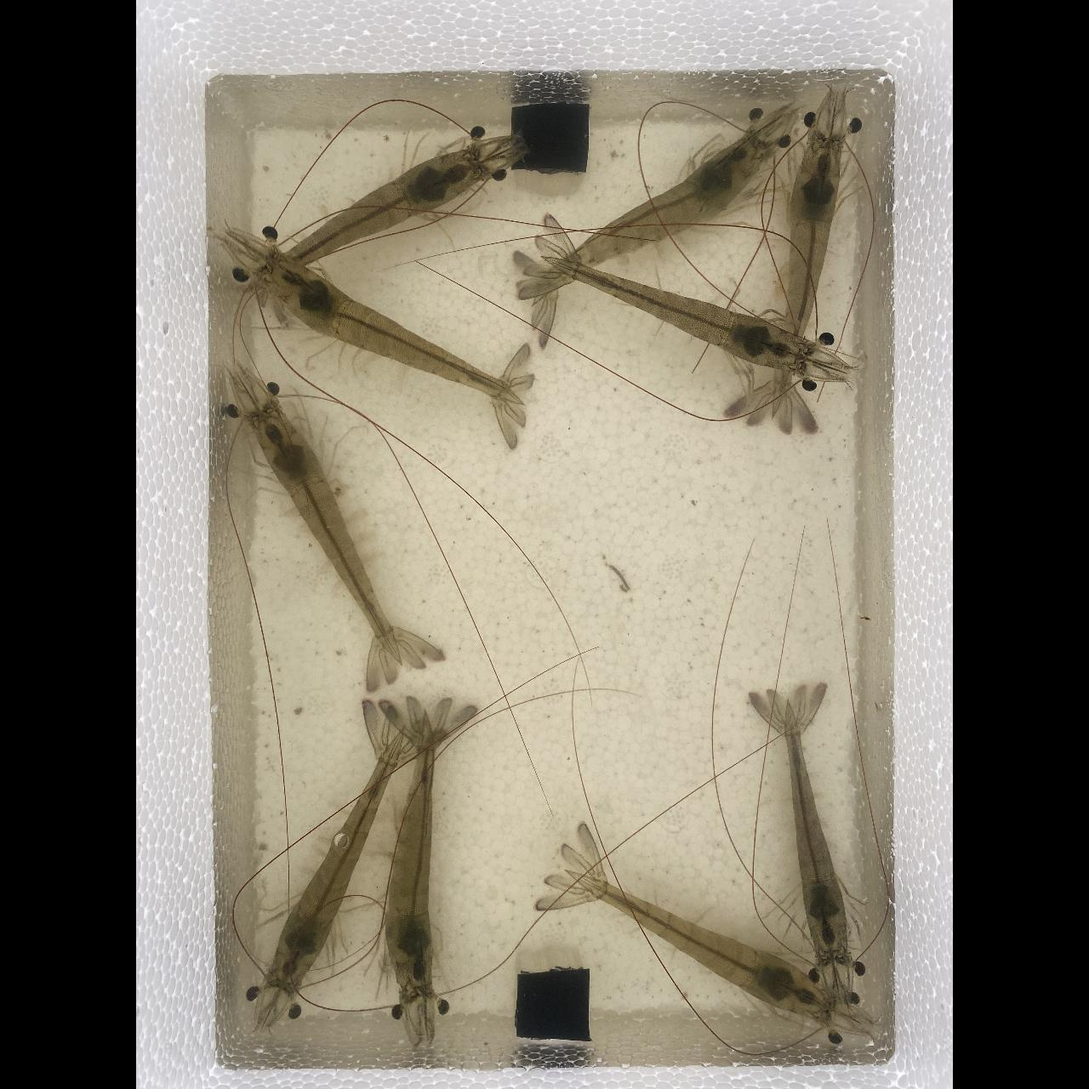box: (509, 100, 589, 172), (516, 970, 590, 1040)
top_shrimp: (577, 871, 832, 1019), (254, 410, 400, 659), (264, 262, 516, 400), (269, 740, 400, 987), (553, 136, 766, 276), (257, 150, 482, 279), (553, 257, 805, 369), (774, 136, 841, 417), (786, 706, 847, 958), (386, 718, 434, 992)
